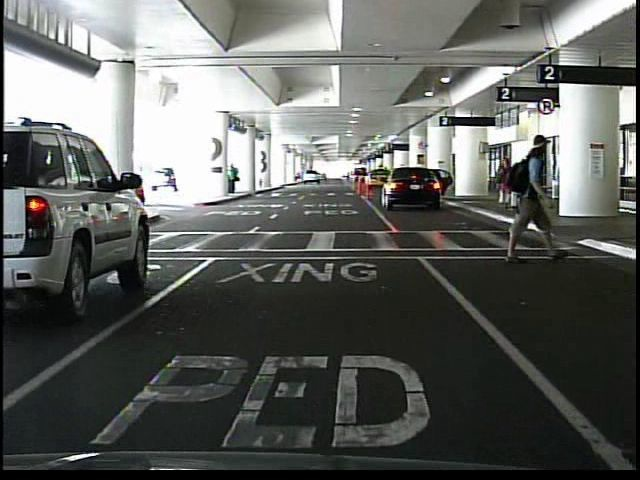person: (494, 137, 575, 264), (491, 157, 513, 208), (513, 162, 531, 210), (227, 164, 238, 195), (530, 163, 536, 198)
